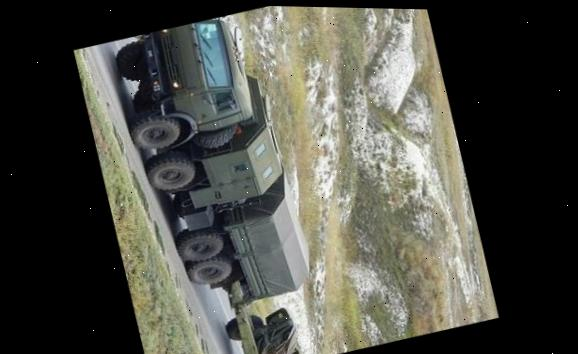truck: (97, 3, 331, 322)
